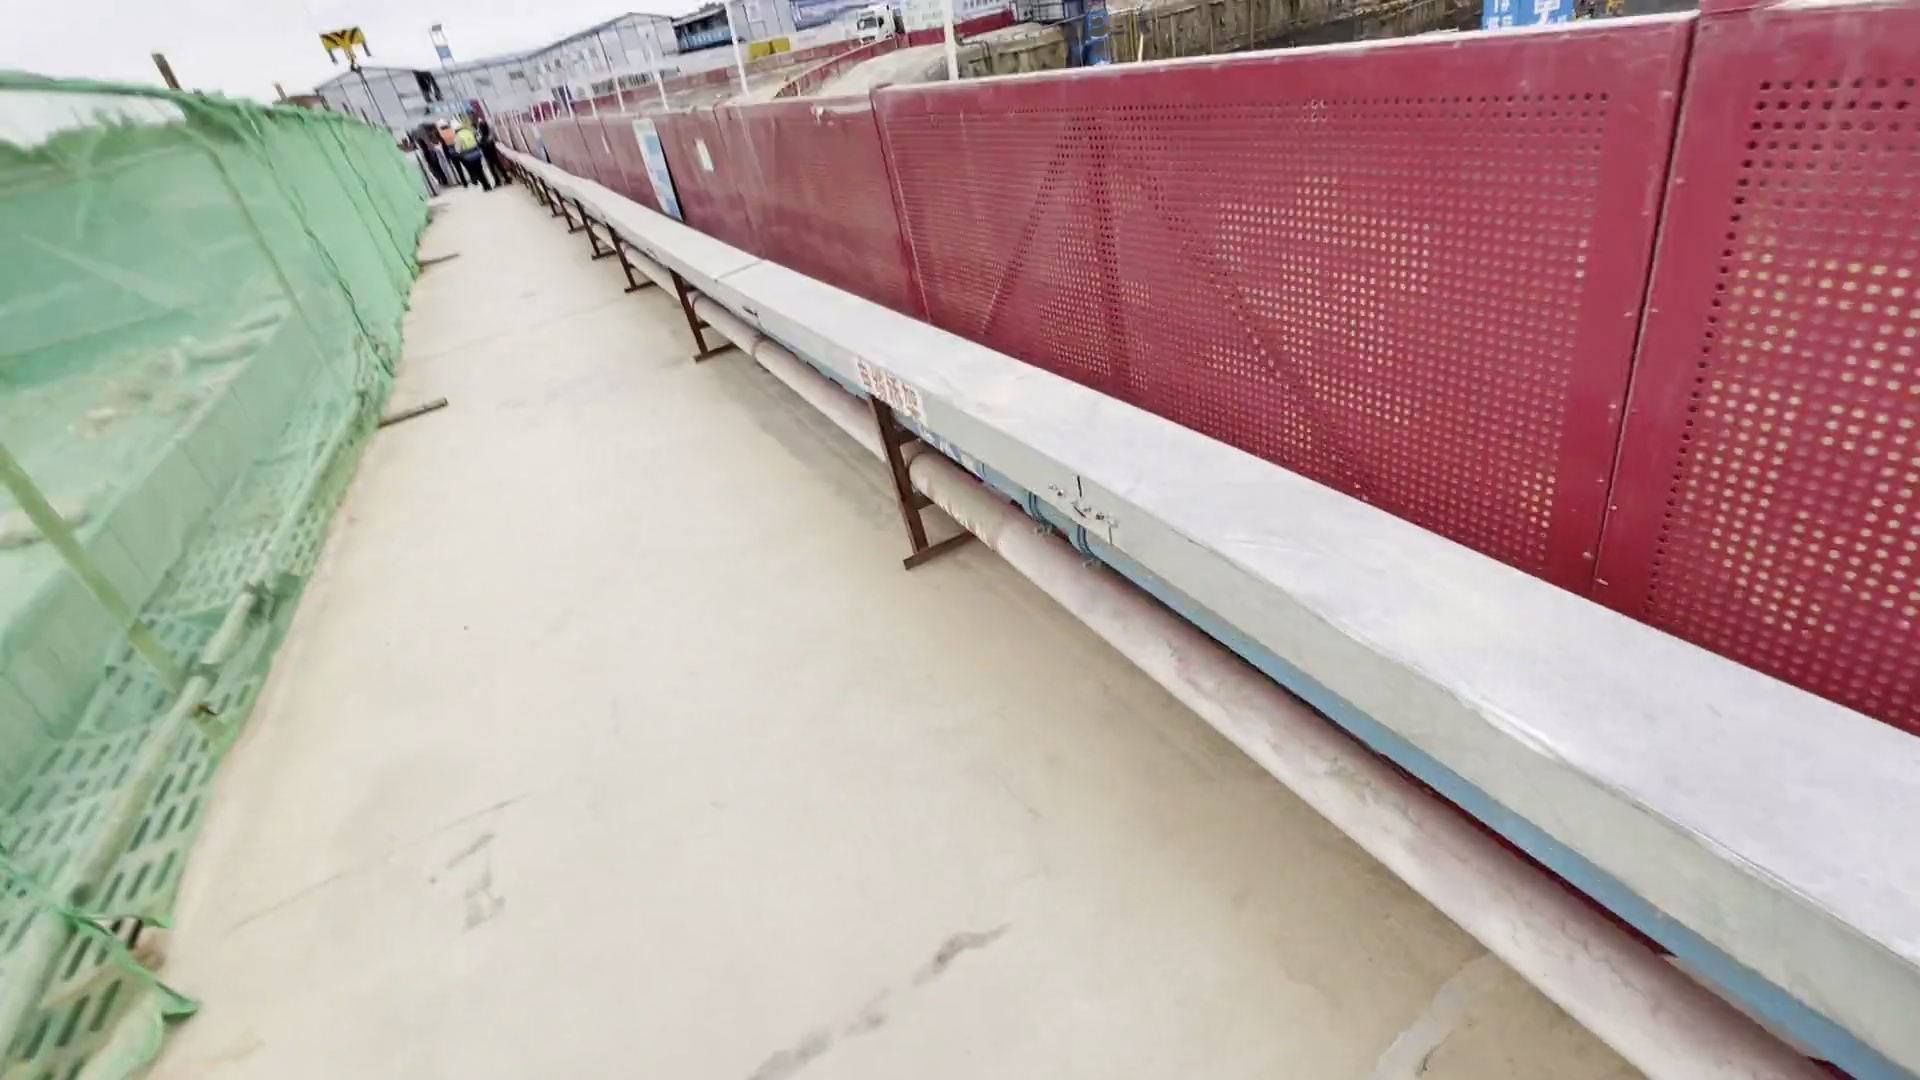helmet: (447, 114, 462, 132), (435, 118, 452, 131)
person: (444, 121, 514, 202), (428, 108, 470, 199)
vest: (457, 131, 487, 161), (442, 127, 465, 159)
